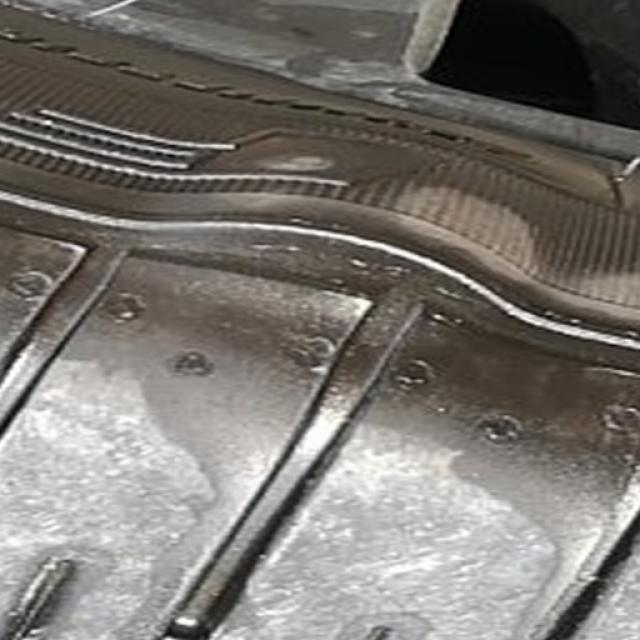Bulge: (151, 77, 602, 356)
